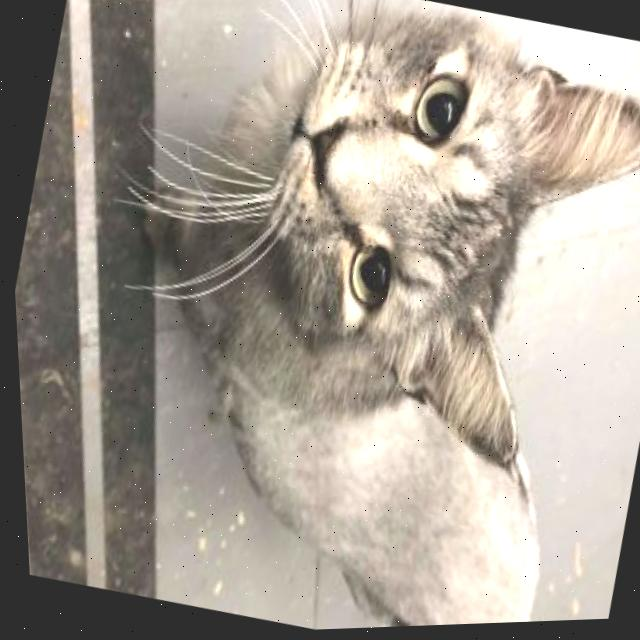Maine Coon: (37, 0, 640, 639)
